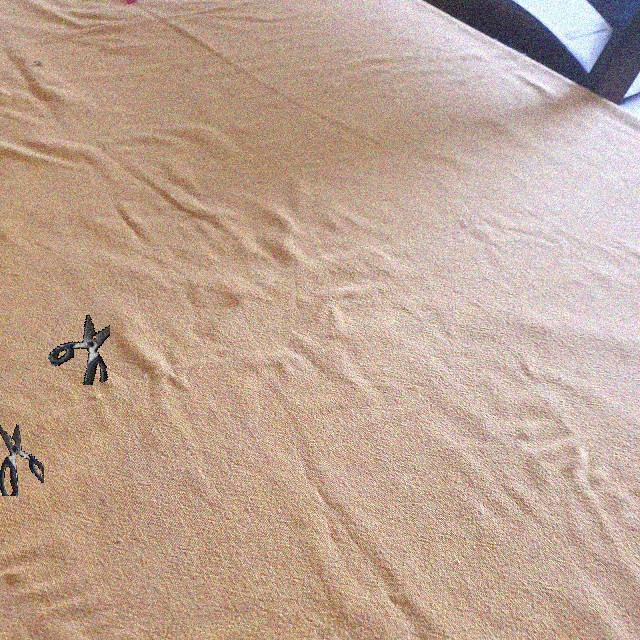scissors: (47, 315, 110, 385), (0, 423, 44, 496)
